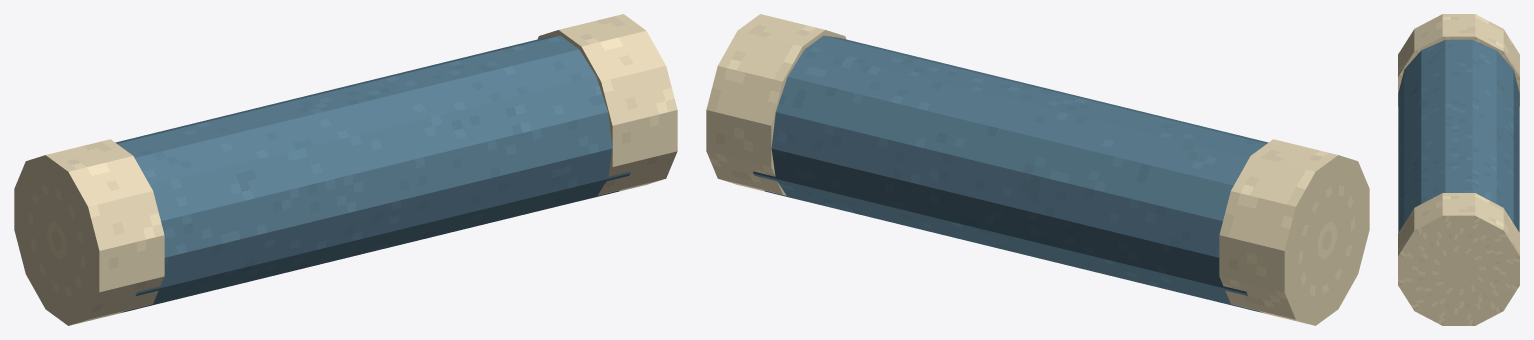
Rendered from lifestraw.glb.
3 views of the same model, side by side, from view 1: azimuth 30°, elevation 25°; view 2: azimuth 150°, elevation 25°; view 3: azimuth 270°, elevation 25° (orthographic). The views are drawn at different scales.
Visible parts, largest first — view 1: block_plastic tool body, block_end collar (×2); view 2: block_plastic tool body, block_end collar (×2); view 3: block_plastic tool body, block_end collar (×2).
Boxes of the visible parts, box(x1,y1,x2,y2) form: block_plastic tool body: box(115, 35, 630, 312); block_end collar (×2): box(14, 14, 677, 325); block_plastic tool body: box(753, 35, 1268, 312); block_end collar (×2): box(706, 14, 1369, 325); block_plastic tool body: box(1398, 39, 1519, 232); block_end collar (×2): box(1398, 14, 1519, 325).
Size of the model in its own units: 0.1604 by 0.0409 by 0.0409.
1 material, 1 textured.
